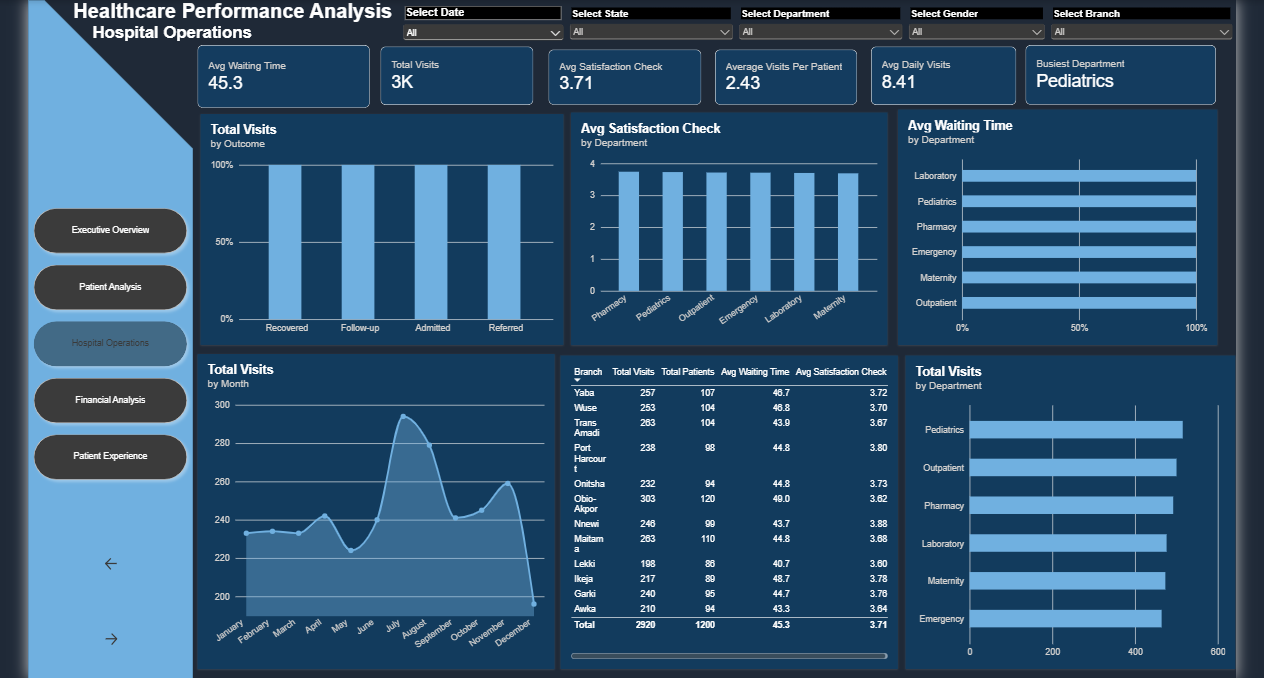

The dashboard page shown, as its layout file describes it:
{"tool":"powerbi","page":{"name":"Hospital Operations","canvas":[1920,1080],"ordinal":2},"visuals":[{"type":"textbox","box":[0,0,651.4,57.3],"z":0},{"type":"textbox","box":[102.6,35.8,291.1,62],"z":1000},{"type":"hundredPercentStackedColumnChart","fields":{"Category":["Patient_Visits.Outcome"],"Y":["Date_Table.Total Visits"]},"box":[274.4,181.3,577.4,367.4],"z":2000},{"type":"clusteredBarChart","fields":{"Category":["Patient_Visits.Department"],"Y":["Date_Table.Total Visits"]},"box":[1395.8,565.5,524.9,498.7],"z":3000},{"type":"tableEx","fields":{"Values":["Patient_Visits.Branch","Date_Table.Total Visits","Date_Table.Total Patients","Date_Table.Avg Waiting Time","Date_Table.Avg Satisfaction Check"]},"box":[847,565.5,536.8,498.7],"z":4000},{"type":"lineChart","fields":{"Category":["Date_Table.Month"],"Y":["Date_Table.Total Visits"]},"box":[269.6,563.1,567.8,501],"z":5000},{"type":"columnChart","fields":{"Category":["Patient_Visits.Department"],"Y":["Date_Table.Average Satisfaction Check"]},"box":[863.7,178.9,503.4,369.8],"z":6000},{"type":"hundredPercentStackedBarChart","fields":{"Category":["Patient_Visits.Department"],"Y":["Date_Table.Average Waiting Time"]},"box":[1383.8,174.2,508.2,374.6],"z":7000},{"type":"shape","box":[0,0,262.5,1080.8],"z":8000},{"type":"pageNavigator","box":[0,322.1,262.5,453.3],"z":9000},{"type":"slicer","fields":{"Values":["Patient_Visits.State"]},"box":[856.5,11.9,269.6,85.9],"z":10000},{"type":"slicer","fields":{"Values":["Patient_Visits.Department"]},"box":[1126.2,11.9,269.6,52.5],"z":11000},{"type":"slicer","fields":{"Values":["Date_Table.Date"]},"box":[591.7,9.5,264.8,76.3],"z":12000},{"type":"slicer","fields":{"Values":["Patient_Visits.Gender"]},"box":[1395.8,11.9,226.7,76.3],"z":13000},{"type":"slicer","fields":{"Values":["Patient_Visits.Branch"]},"box":[1621.8,11.9,298.2,74],"z":14000},{"type":"cardVisual","fields":{"Data":["Date_Table.Average Waiting Time"]},"box":[269.6,71.6,274.4,100.2],"z":15000},{"type":"cardVisual","fields":{"Data":["Date_Table.Total Visits"]},"box":[561.5,74.8,243.4,93.1],"z":16000},{"type":"cardVisual","fields":{"Data":["Date_Table.Average Satisfaction Check"]},"box":[828.7,79.5,243.4,88.3],"z":17000},{"type":"cardVisual","fields":{"Data":["Date_Table.Average Visits Per Patient"]},"box":[1093.5,79.5,226.7,88.3],"z":18000},{"type":"cardVisual","fields":{"Data":["Date_Table.Average Daily Visits"]},"box":[1341.7,74.8,231.4,93.1],"z":19000},{"type":"cardVisual","fields":{"Data":["Date_Table.Busiest Department"]},"box":[1587.4,72.4,303,95.4],"z":20000},{"type":"actionButton","box":[2.4,842.2,260.1,109.8],"z":21000},{"type":"actionButton","box":[2.4,952,260.1,128.8],"z":22000}]}

Visuals, with their boxes on the page's 1920x1080 design canvas (x1, y1, x2, y2). These are canvas units, not pixel positions in the 1264x678 screenshot, which may show the page scaled, cropped or inside an application window:
textbox: 0/0/651/57
textbox: 103/36/394/98
hundredPercentStackedColumnChart - Patient_Visits.Outcome x Date_Table.Total Visits: 274/181/852/549
clusteredBarChart - Patient_Visits.Department x Date_Table.Total Visits: 1396/566/1921/1064
tableEx - Patient_Visits.Branch x Date_Table.Total Visits: 847/566/1384/1064
lineChart - Date_Table.Month x Date_Table.Total Visits: 270/563/837/1064
columnChart - Patient_Visits.Department x Date_Table.Average Satisfaction Check: 864/179/1367/549
hundredPercentStackedBarChart - Patient_Visits.Department x Date_Table.Average Waiting Time: 1384/174/1892/549
shape: 0/0/262/1081
pageNavigator: 0/322/262/775
slicer - Patient_Visits.State: 856/12/1126/98
slicer - Patient_Visits.Department: 1126/12/1396/64
slicer - Date_Table.Date: 592/10/856/86
slicer - Patient_Visits.Gender: 1396/12/1622/88
slicer - Patient_Visits.Branch: 1622/12/1920/86
cardVisual - Date_Table.Average Waiting Time: 270/72/544/172
cardVisual - Date_Table.Total Visits: 562/75/805/168
cardVisual - Date_Table.Average Satisfaction Check: 829/80/1072/168
cardVisual - Date_Table.Average Visits Per Patient: 1094/80/1320/168
cardVisual - Date_Table.Average Daily Visits: 1342/75/1573/168
cardVisual - Date_Table.Busiest Department: 1587/72/1890/168
actionButton: 2/842/262/952
actionButton: 2/952/262/1081
